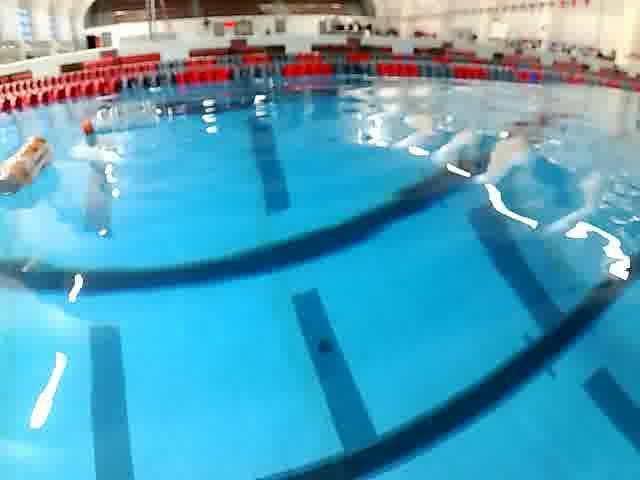Bottle: (73, 92, 163, 145), (0, 128, 58, 202)
